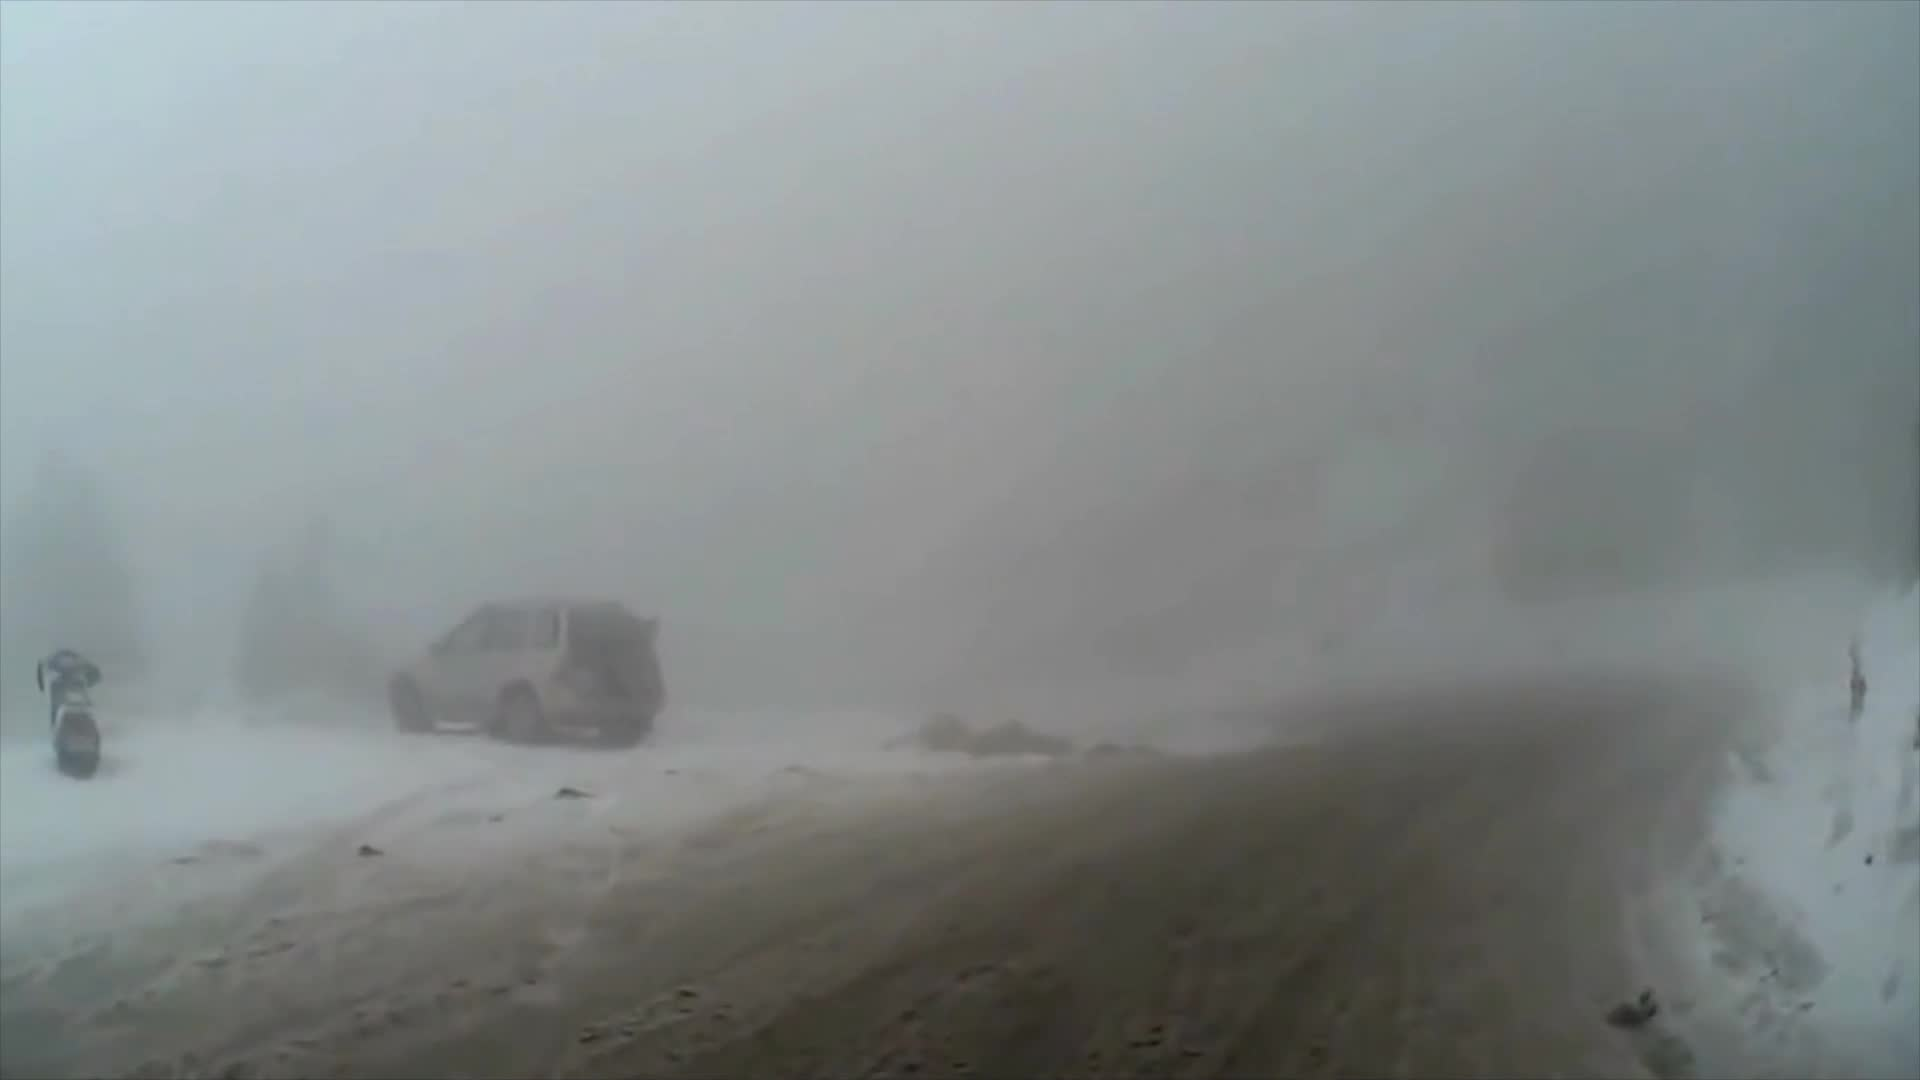vehicle: (380, 593, 663, 757)
